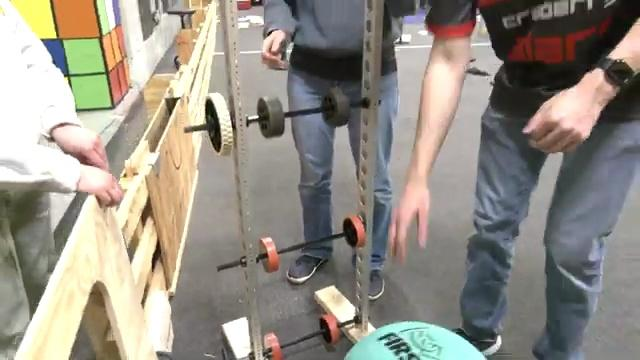ALGAE: (342, 319, 488, 359)
